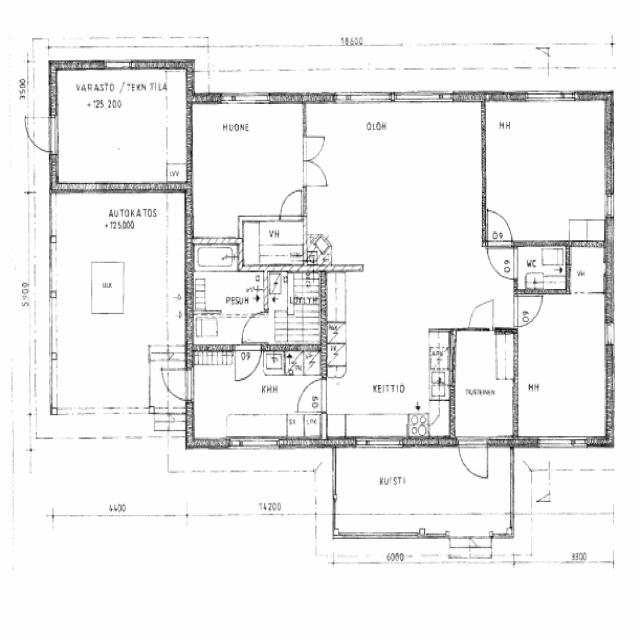door: (458, 438, 487, 483), (22, 117, 59, 152), (160, 370, 194, 400), (235, 345, 261, 383), (296, 381, 326, 412), (488, 210, 512, 247), (489, 249, 518, 279), (513, 297, 542, 327), (239, 312, 268, 342), (469, 299, 493, 334), (280, 190, 301, 221), (303, 137, 327, 162), (303, 162, 327, 186)
